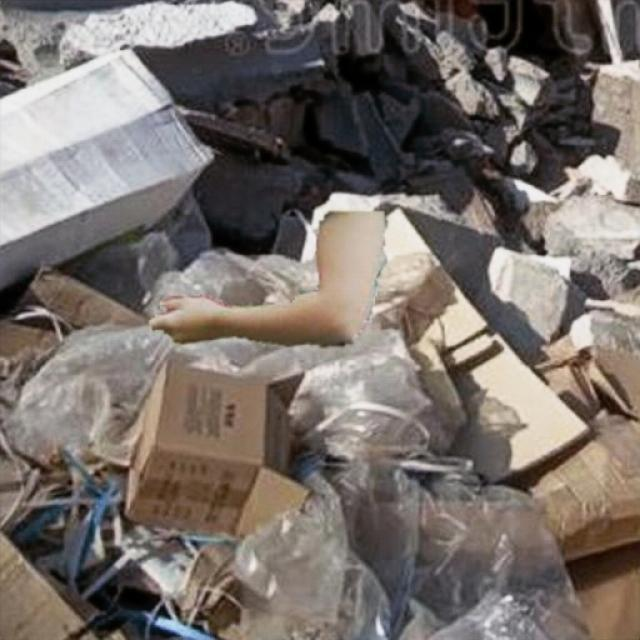Person in Rubble: (148, 212, 386, 346)
